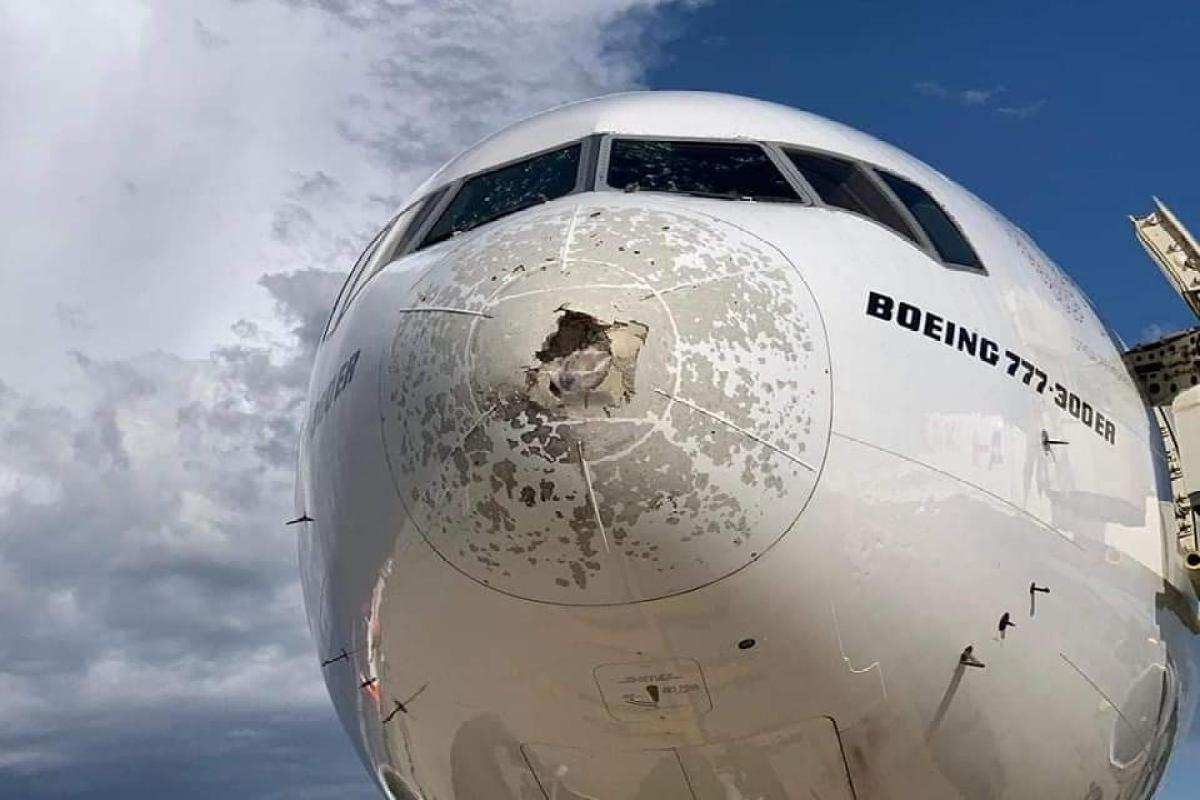Fuselage_damage: (380, 197, 823, 602), (429, 145, 578, 238), (609, 141, 800, 198)
